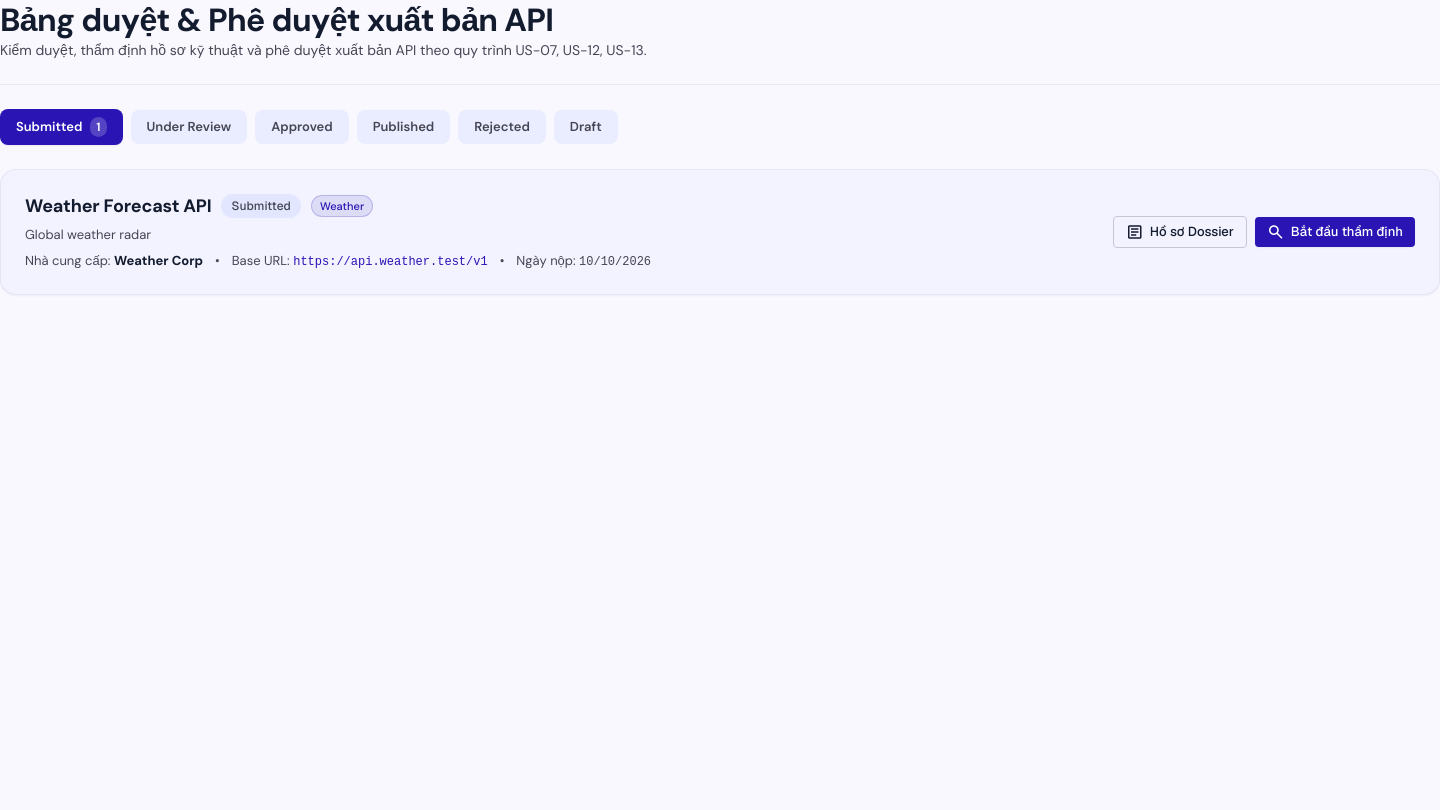
Scenario: Admin Console Pages session isolation tests (Admin A -> Admin B) › Finding F3: Admin dossier DNS verification tests › displays unverified message when verifiedAt is missing
The width and height of the screenshot is (1440, 810).
Expected: the heading "Weather Forecast API" is shown, [25, 194, 212, 218]
Click the button "Hồ sơ Dossier" at point(1180, 232), box [1113, 216, 1247, 248]
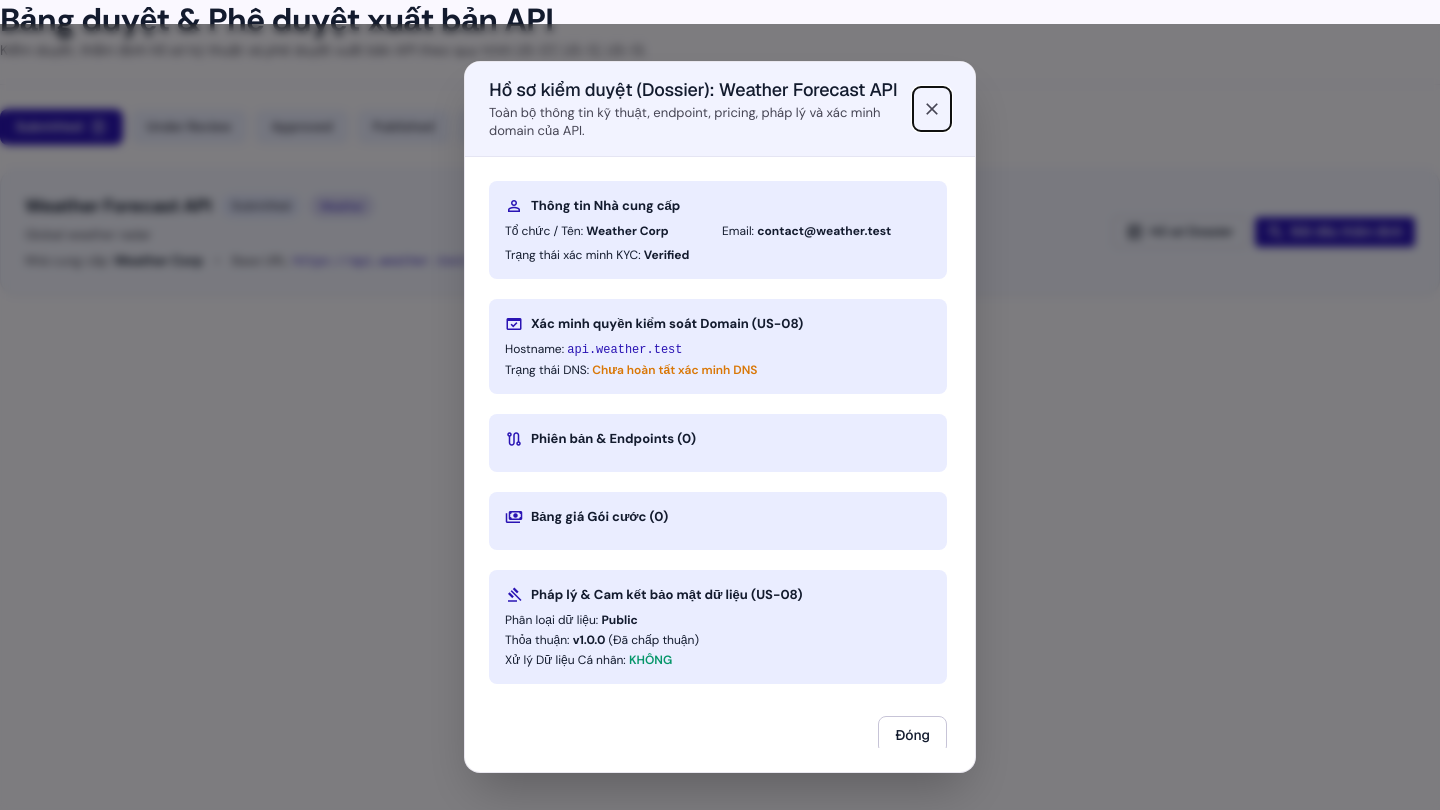
Now the heading "Xác minh quyền kiểm soát Domain (US-08)" is shown, box [505, 313, 803, 335]
Now the text "Chưa hoàn tất xác minh DNS" is shown, box [592, 362, 758, 378]
